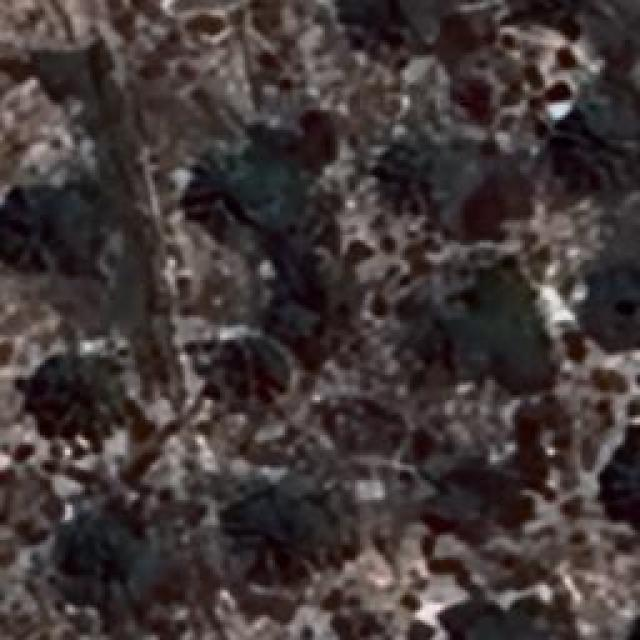PalmTree: (80, 60, 600, 124), (206, 480, 334, 582), (374, 119, 468, 239), (94, 28, 392, 60), (44, 497, 144, 585), (454, 282, 536, 378), (3, 184, 88, 274), (185, 156, 273, 239), (415, 452, 497, 535), (25, 359, 110, 439), (216, 331, 286, 404), (584, 263, 640, 352), (485, 601, 568, 640), (516, 0, 608, 31), (610, 436, 640, 528), (620, 436, 640, 524)
